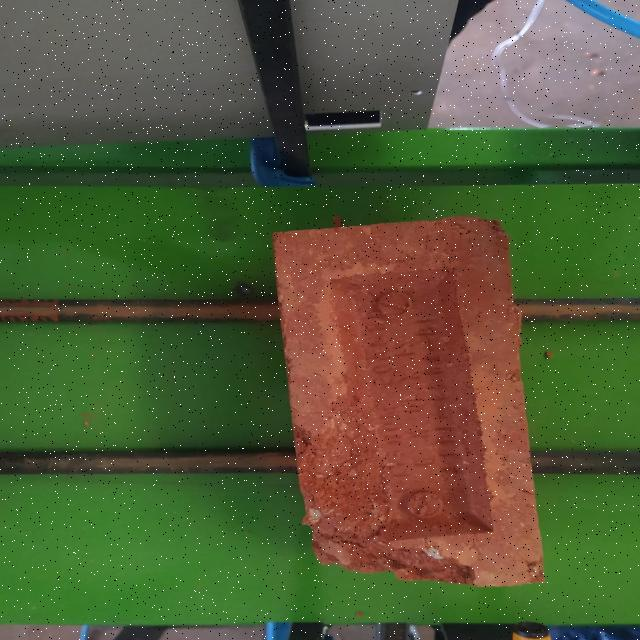bricks_ruin: (274, 219, 544, 590)
